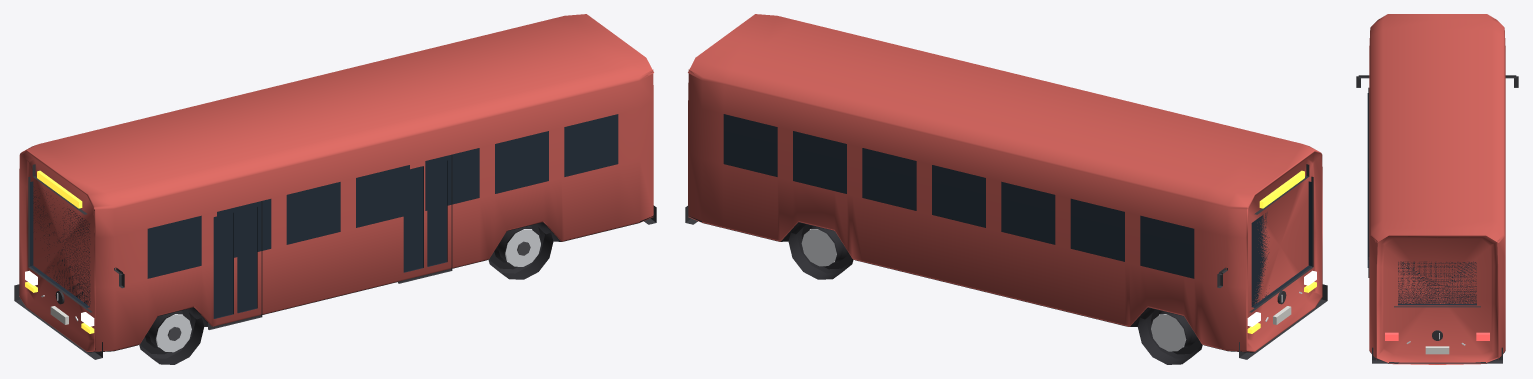
File: bus_classic.glb
The picture shows the model from 3 angles, left to right: view 1: azimuth 30°, elevation 25°; view 2: azimuth 150°, elevation 25°; view 3: azimuth 270°, elevation 25°; orthographic projection. The views are drawn at different scales.
Bounding box in the file's own units: 1.9 × 0.588 × 0.5861.
